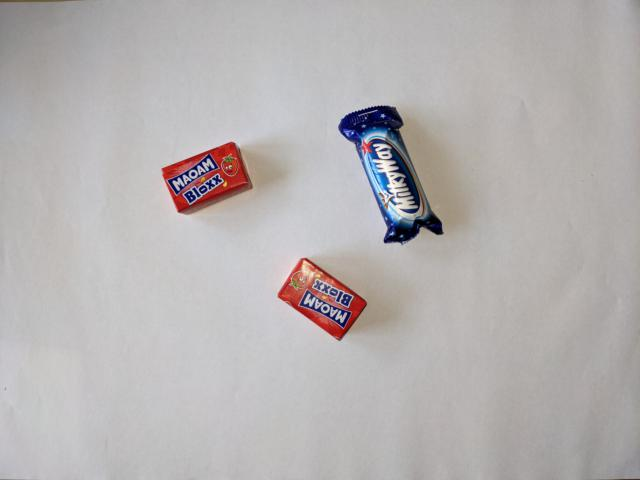MAOAM: (274, 255, 370, 344), (159, 139, 256, 216)
MilkyWay: (336, 103, 447, 246)
